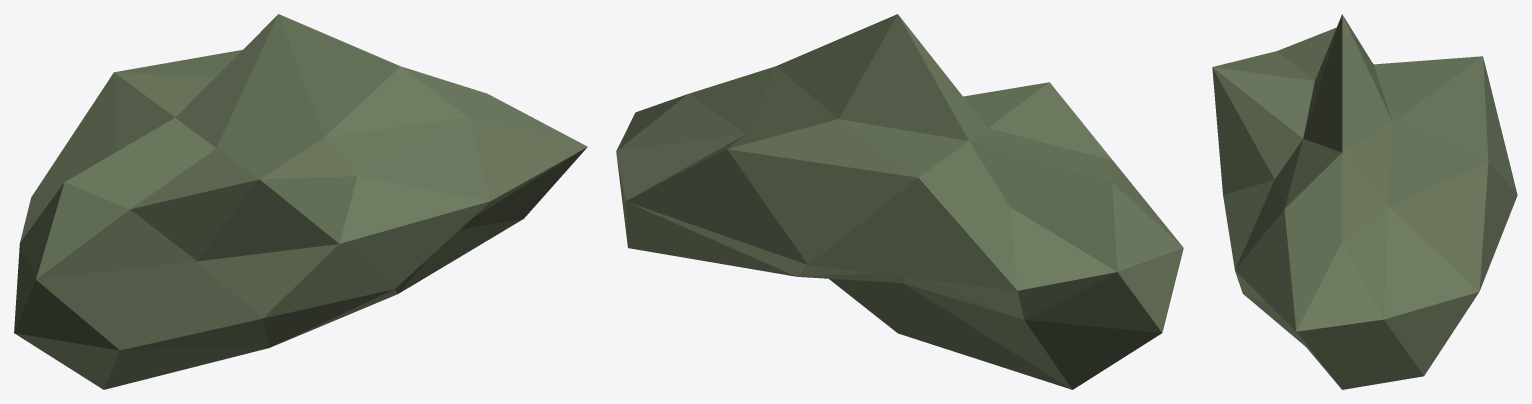
The model's file is boulder_03.glb.
3 renders of one model, left to right at view 1: azimuth 30°, elevation 25°; view 2: azimuth 150°, elevation 25°; view 3: azimuth 270°, elevation 25°, orthographic. The views are drawn at different scales.
Parts seen in each view (by area): view 1: boulder_03; view 2: boulder_03; view 3: boulder_03.
Boxes of the visible parts, box(x1,y1,x2,y2) form: boulder_03: box(14, 14, 587, 389); boulder_03: box(616, 14, 1183, 389); boulder_03: box(1212, 14, 1517, 389).
Size of the model in its own units: 4.89 by 2.83 by 2.4.
